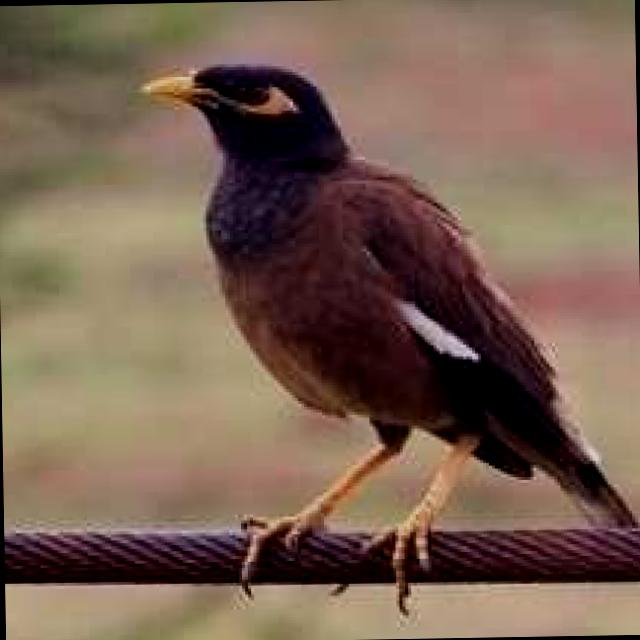bird: (140, 38, 640, 622)
